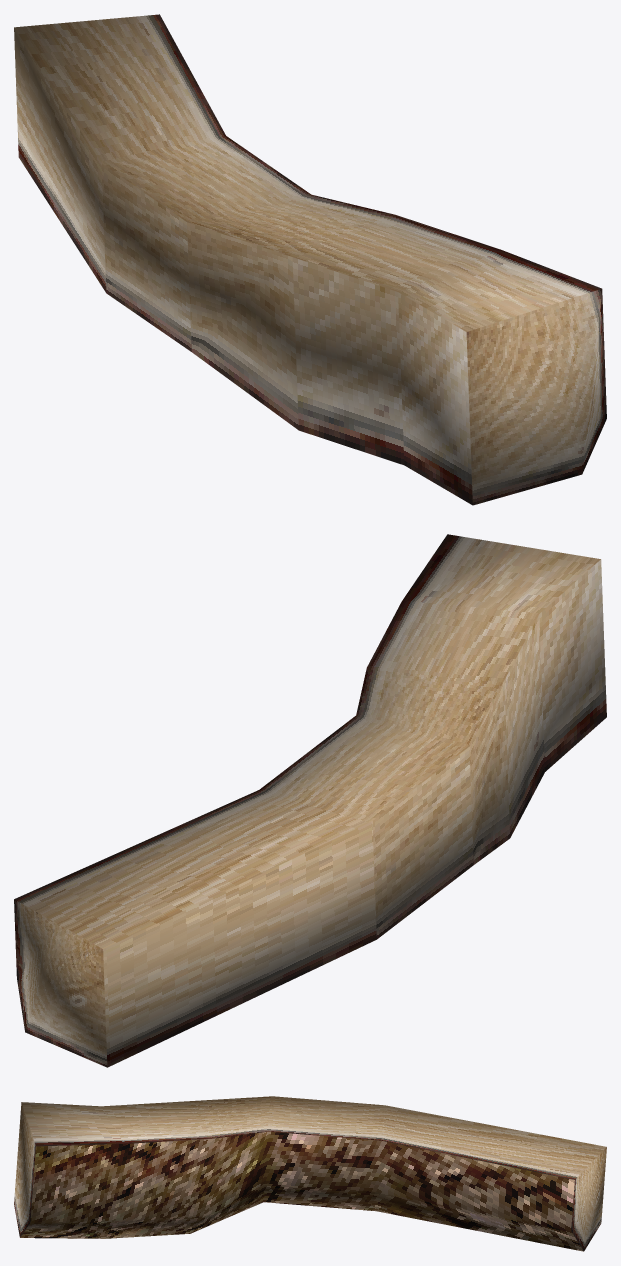
File: lumber.glb
3 renders of one model, top to bottom at view 1: azimuth 30°, elevation 25°; view 2: azimuth 150°, elevation 25°; view 3: azimuth 270°, elevation 25°, orthographic. The views are drawn at different scales.
Parts seen in each view (by area): view 1: Lumber; view 2: Lumber; view 3: Lumber.
Part boxes in pixels (x1,y1,x2,y2): Lumber: (14, 14, 606, 505); Lumber: (14, 534, 606, 1067); Lumber: (14, 1096, 606, 1251).
Bounding box in the file's own units: 0.2382 × 0.19 × 0.9082.
Materials: 2 (2 with a texture image).
